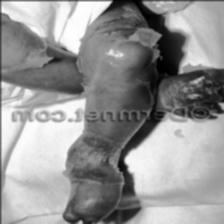Non-Cancerous Skin Condition: (82, 3, 157, 107), (66, 135, 125, 224), (0, 15, 64, 85), (155, 71, 222, 109)
